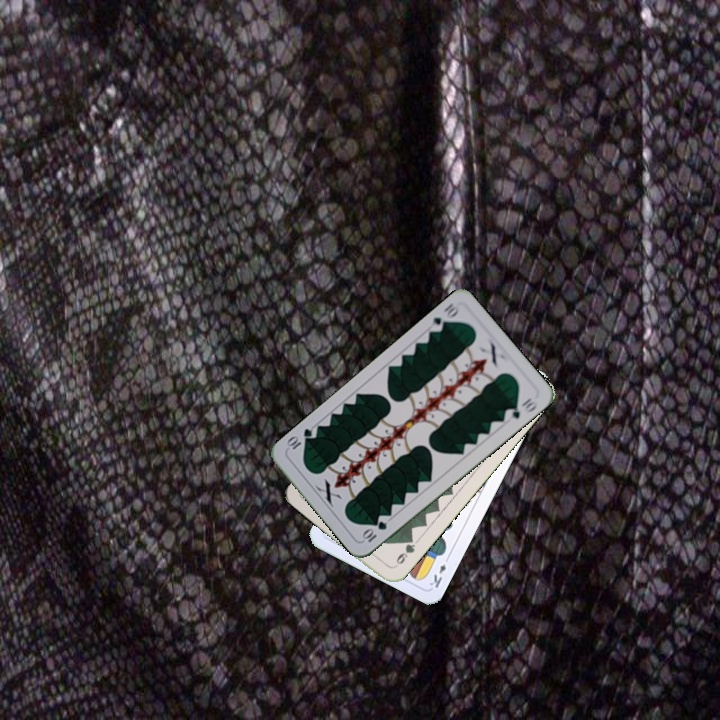EK: (425, 552, 452, 590)
G10: (428, 299, 462, 335), (358, 517, 390, 545)
G9: (390, 533, 418, 570)
